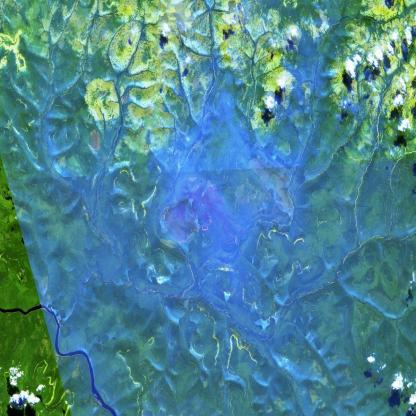fire: (162, 186, 214, 248)
